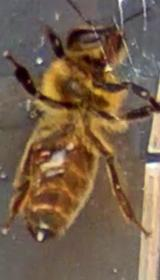varroa_mite: (28, 138, 58, 173)
